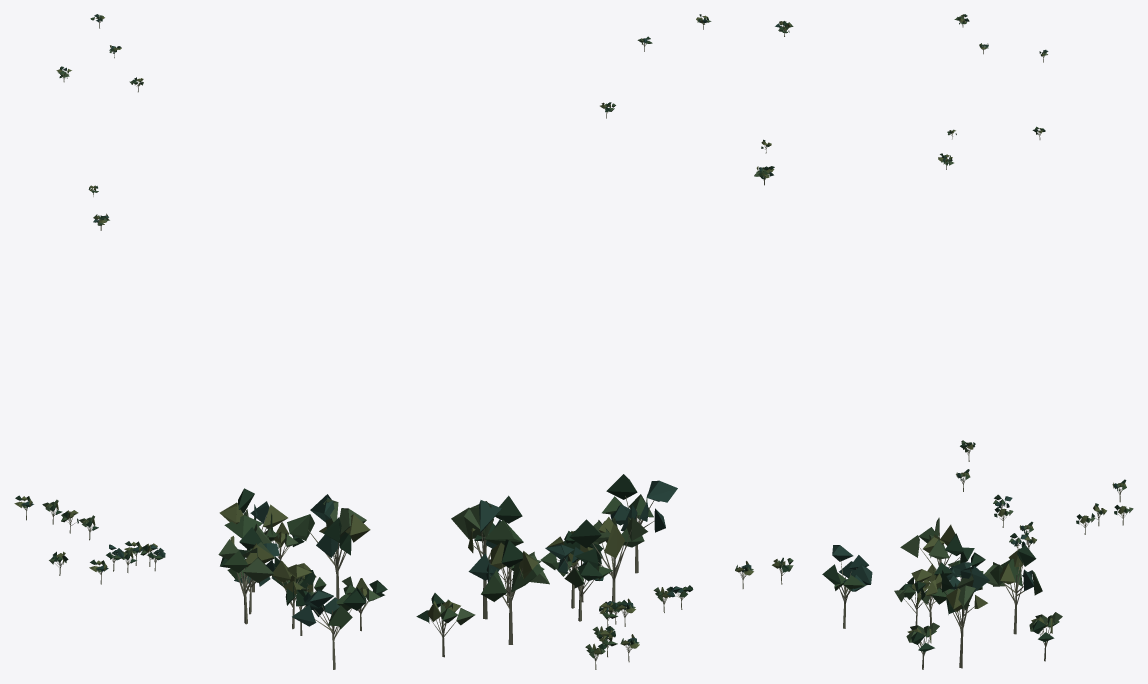
File: forest_23_22.dae
The picture shows the model from 3 angles, left to right: view 1: azimuth 30°, elevation 25°; view 2: azimuth 150°, elevation 25°; view 3: azimuth 270°, elevation 25°; orthographic projection. The views are drawn at different scales.
Visible parts, largest first — view 1: Node; view 2: Node; view 3: Node.
Part boxes in pixels (x1=…): Node: x1=14, y1=14, x2=387, y2=669; Node: x1=416, y1=14, x2=793, y2=669; Node: x1=822, y1=14, x2=1133, y2=669.
Size of the model in its own units: 11.01 by 10.79 by 20.56.
